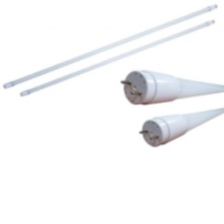light_bulb: (1, 4, 219, 90), (16, 19, 216, 98), (115, 68, 224, 107), (137, 105, 224, 152)
